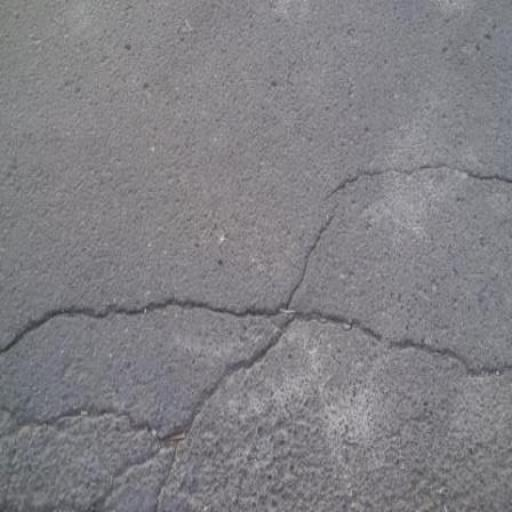spalling: (2, 158, 512, 504), (8, 285, 509, 394)
